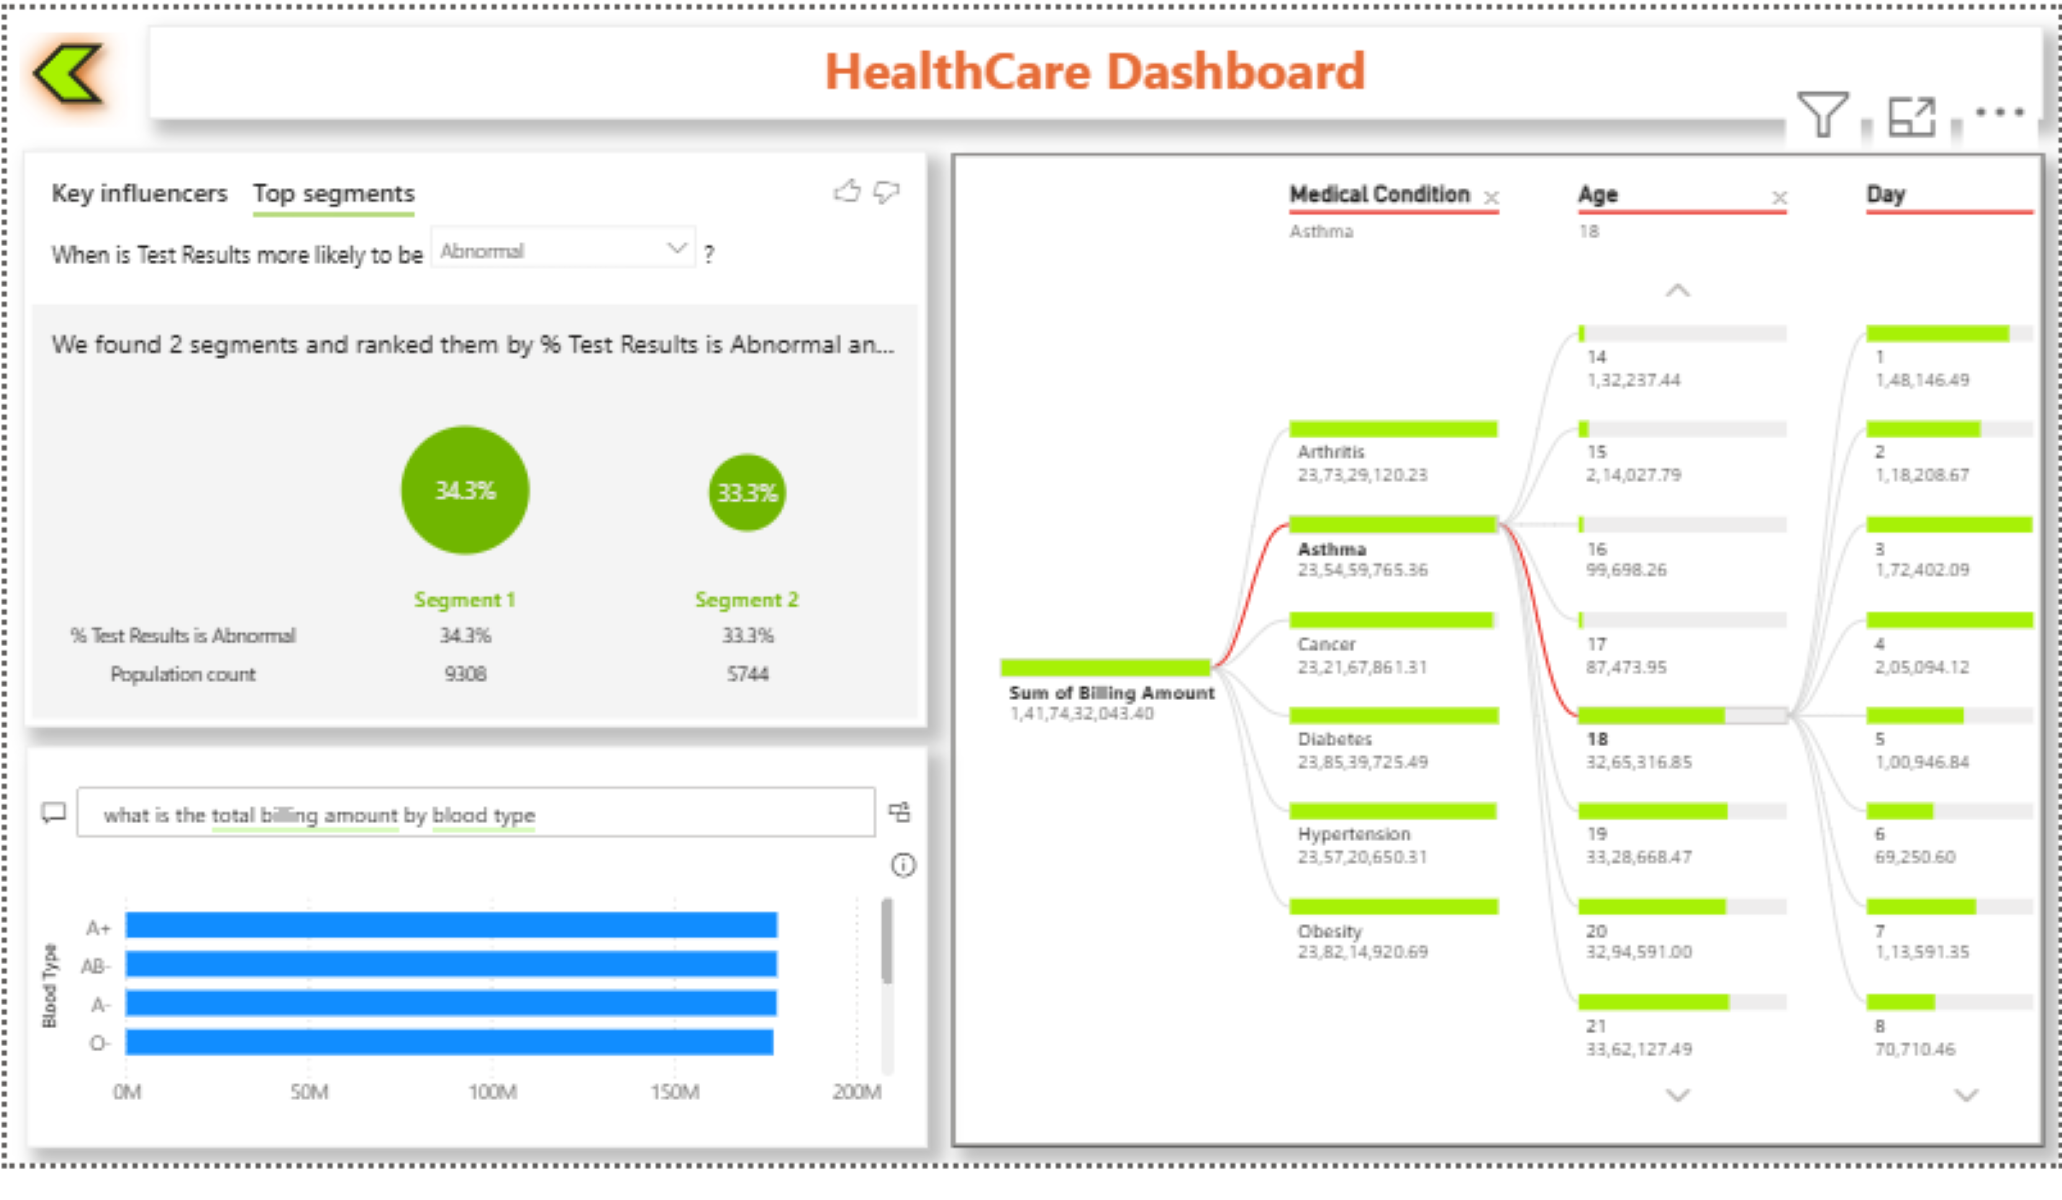

The page's visual inventory and layout, read from the dashboard file:
{"tool":"powerbi","page":{"name":"HealthCare DashBoard1","canvas":[1280,720],"ordinal":1},"visuals":[{"type":"textbox","box":[88,10,1182,58],"z":0},{"type":"shape","box":[0,6,76,68],"z":2000},{"type":"keyDriversVisual","fields":{"Target":["healthcare_dataset.Test Results"],"ExplainBy":["healthcare_dataset.Medical Condition","Sum(healthcare_dataset.Age)","healthcare_dataset.Blood Type"]},"box":[10,88,564,360],"z":3000},{"type":"decompositionTreeVisual","fields":{"Analyze":["Sum(healthcare_dataset.Billing Amount)"],"ExplainBy":["healthcare_dataset.Medical Condition","healthcare_dataset.Age","healthcare_dataset.Discharge Date.Variation.Date Hierarchy.Day","healthcare_dataset.Discharge Date.Variation.Date Hierarchy.Year","healthcare_dataset.Discharge Date.Variation.Date Hierarchy.Month"]},"box":[589.1,89.3,680.6,620.4],"z":4000},{"type":"qnaVisual","box":[12,460,562,250],"z":9000}]}

Visuals, with their boxes in screenshot pixels (x1, y1, x2, y2):
textbox: {"left": 156, "top": 27, "right": 2034, "bottom": 119}
shape: {"left": 16, "top": 20, "right": 137, "bottom": 128}
keyDriversVisual - healthcare_dataset.Test Results x healthcare_dataset.Medical Condition: {"left": 32, "top": 151, "right": 928, "bottom": 722}
decompositionTreeVisual - Sum(healthcare_dataset.Billing Amount) x healthcare_dataset.Medical Condition: {"left": 952, "top": 153, "right": 2033, "bottom": 1138}
qnaVisual: {"left": 35, "top": 742, "right": 928, "bottom": 1139}
